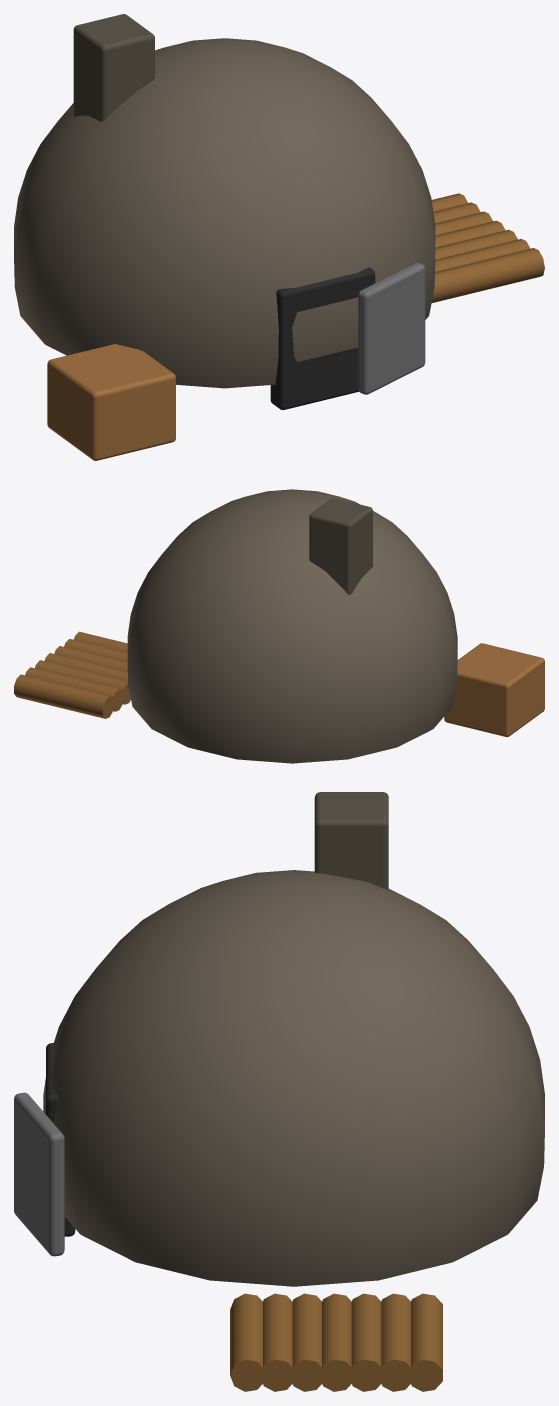
File: charcoal-kiln.glb
3 renders of one model, top to bottom at view 1: azimuth 30°, elevation 25°; view 2: azimuth 150°, elevation 25°; view 3: azimuth 270°, elevation 25°, orthographic. The views are drawn at different scales.
Parts seen in each view (by area): view 1: charcoal-kiln-farm-rock, charcoal-kiln-farm-wood, charcoal-kiln-farm-wood-dark, charcoal-kiln-farm-metal, charcoal-kiln-farm-window, charcoal-kiln-farm-stone-dark; view 2: charcoal-kiln-farm-rock, charcoal-kiln-farm-wood, charcoal-kiln-farm-wood-dark, charcoal-kiln-farm-stone-dark; view 3: charcoal-kiln-farm-rock, charcoal-kiln-farm-wood-dark, charcoal-kiln-farm-metal, charcoal-kiln-farm-stone-dark, charcoal-kiln-farm-window.
Boxes of the visible parts, x1,y1,x2,y2 form: charcoal-kiln-farm-rock: (14,38,435,388); charcoal-kiln-farm-wood: (47,344,175,460); charcoal-kiln-farm-wood-dark: (431,193,544,302); charcoal-kiln-farm-metal: (358,262,425,394); charcoal-kiln-farm-window: (270,267,375,409); charcoal-kiln-farm-stone-dark: (73,14,154,121); charcoal-kiln-farm-rock: (127,489,457,763); charcoal-kiln-farm-wood: (444,643,544,737); charcoal-kiln-farm-wood-dark: (14,631,130,718); charcoal-kiln-farm-stone-dark: (309,498,372,594); charcoal-kiln-farm-rock: (43,870,544,1286); charcoal-kiln-farm-wood-dark: (230,1293,442,1391); charcoal-kiln-farm-metal: (14,1092,64,1256); charcoal-kiln-farm-stone-dark: (314,792,388,890); charcoal-kiln-farm-window: (46,1043,75,1236).
Size of the model in its own units: 4.35 by 2.48 by 3.23.
